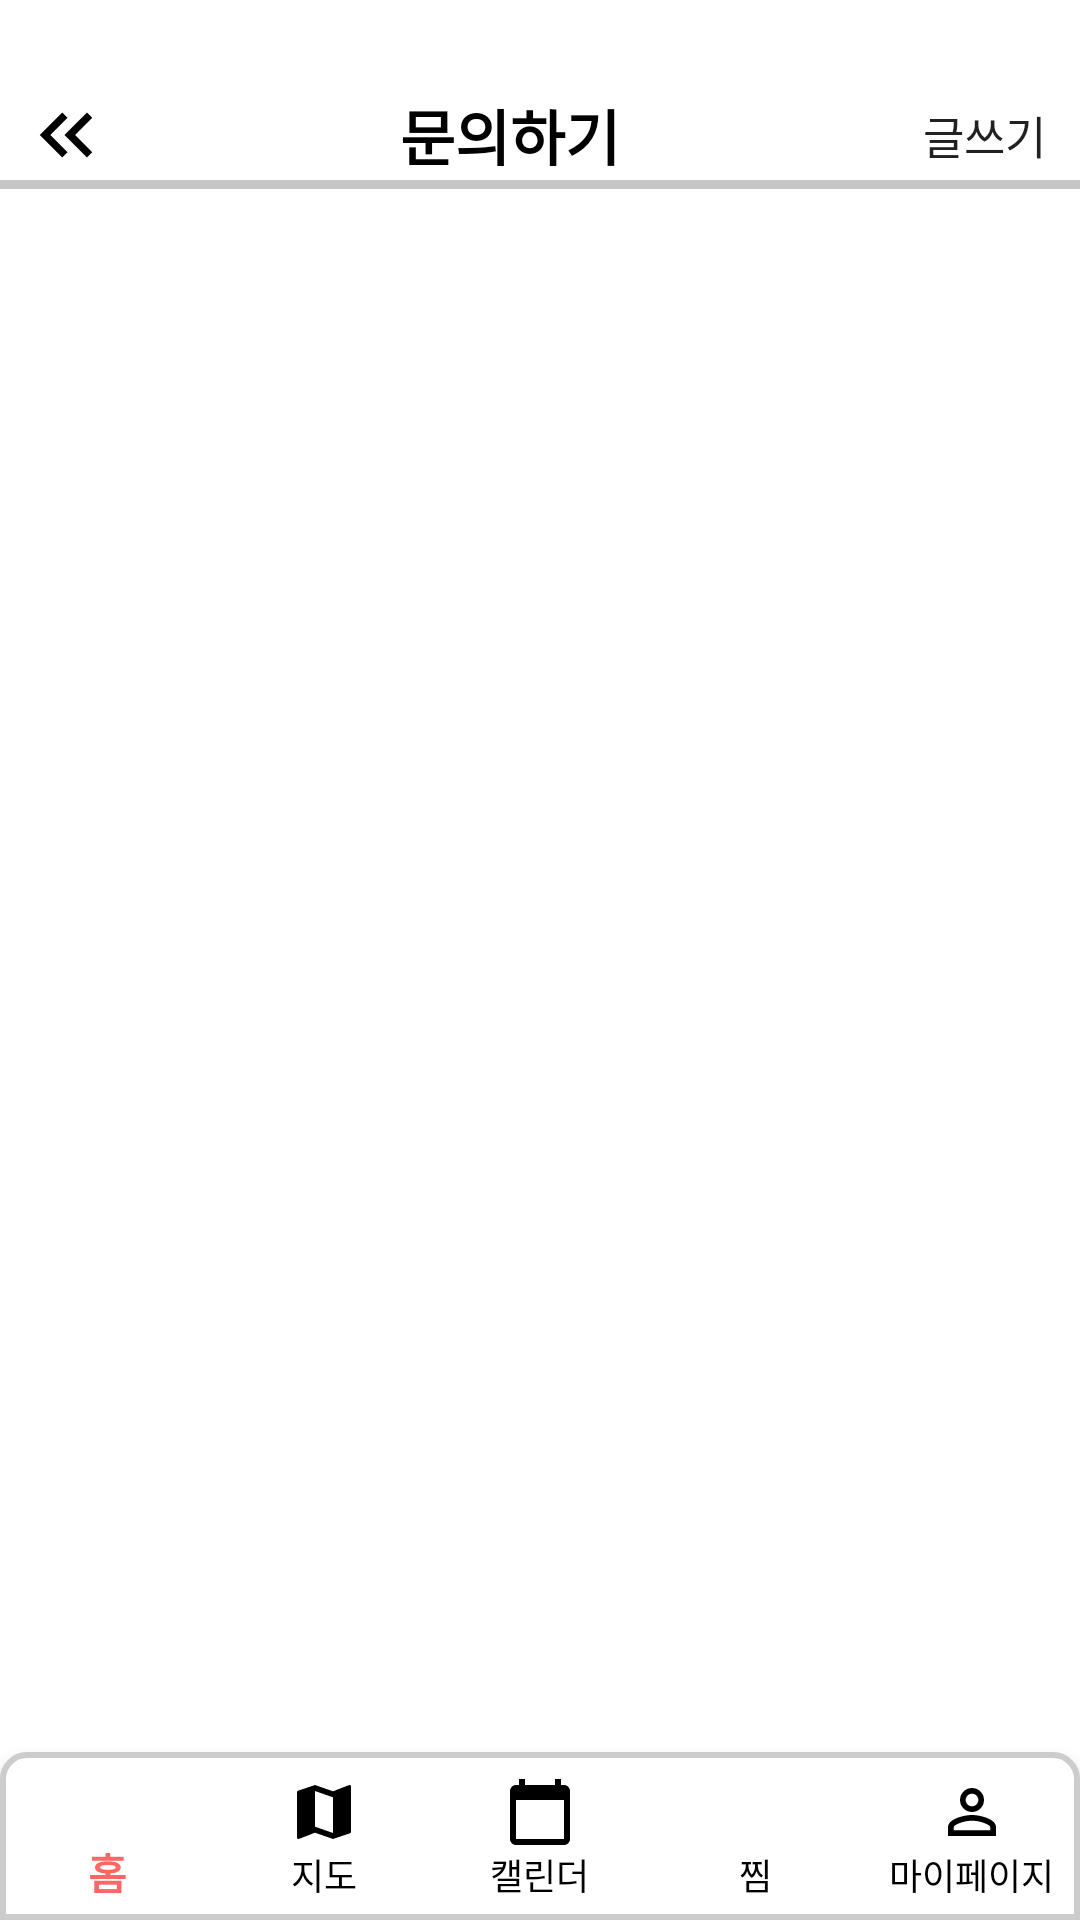

Where icons sit on this 1080px x 1920px app screen, as (x1, y1, x2, y2):
back before: (40, 112, 92, 158)
